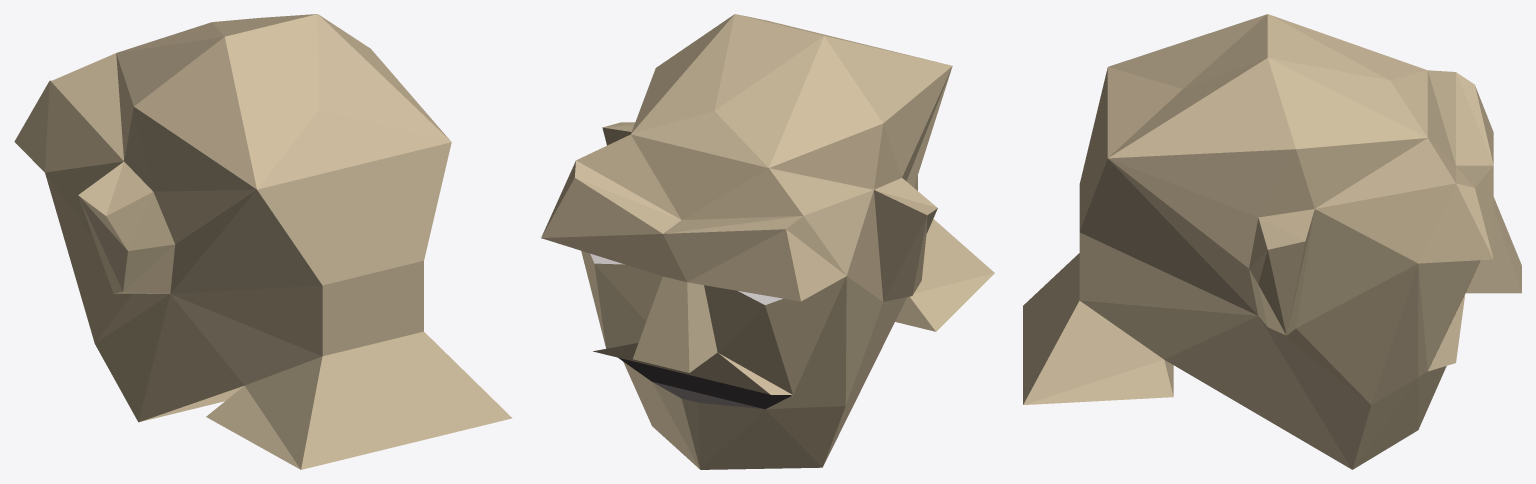
Rendered from npc_world_toban_1.obj.
The picture shows the model from 3 angles, left to right: view 1: azimuth 30°, elevation 25°; view 2: azimuth 150°, elevation 25°; view 3: azimuth 270°, elevation 25°; orthographic projection. The views are drawn at different scales.
Bounding box in the file's own units: 0.3125 × 0.3594 × 0.4141.
